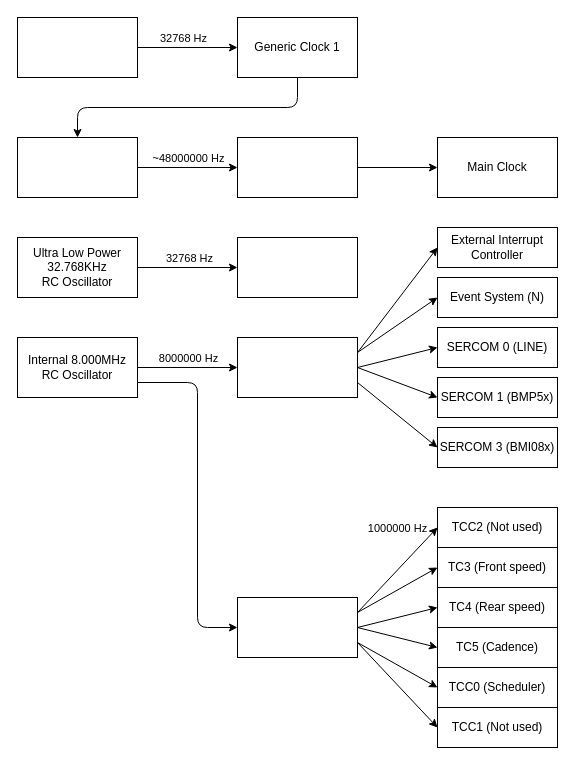
Image size: 575x765. Some labels were removed from this diagram. Each missing label, with the centre of its shape:
Digital Frequency Locked Loop: the point at 77,167
Generic Clock 0: the point at 297,167
Generic Clock 2: the point at 297,267
Generic Clock 3: the point at 297,367
Generic Clock 4 (divide 8): the point at 297,627
Internal 32.768KHz RC Oscillator: the point at 77,47
